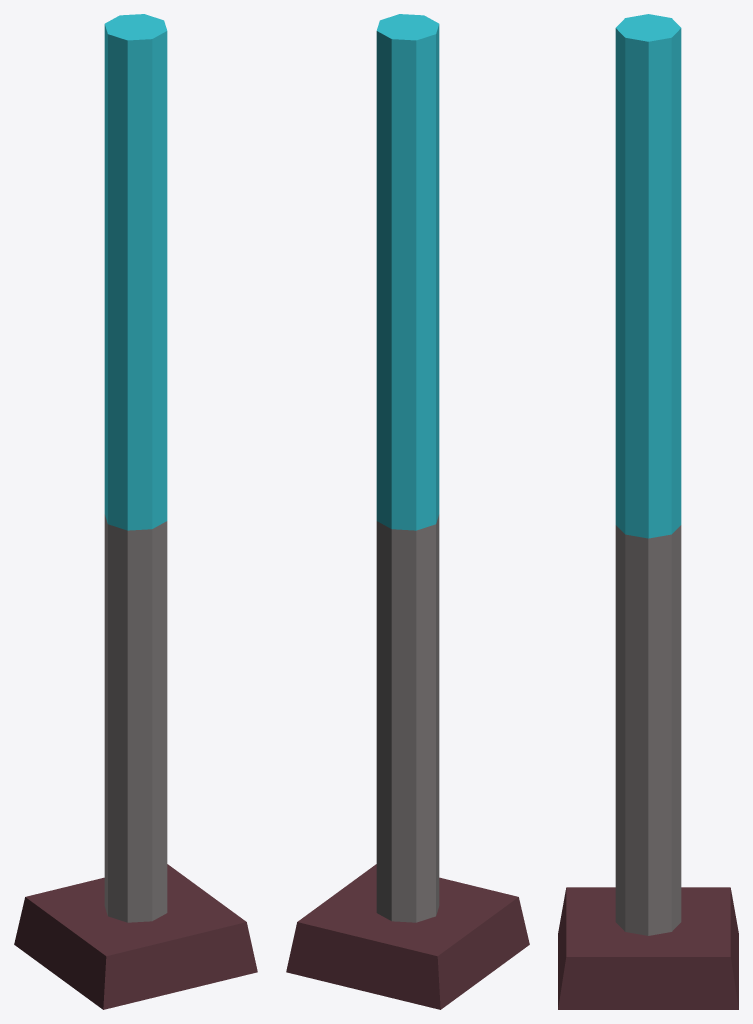
The model's file is scifi-scifi-lamp-small.glb.
3 renders of one model, left to right at view 1: azimuth 30°, elevation 25°; view 2: azimuth 150°, elevation 25°; view 3: azimuth 270°, elevation 25°, orthographic.
Visible parts, largest first — view 1: scifi-lamp-small; view 2: scifi-lamp-small; view 3: scifi-lamp-small.
Boxes of the visible parts, left/top/right/bottom form: scifi-lamp-small: left=14, top=14, right=257, bottom=1009; scifi-lamp-small: left=286, top=14, right=529, bottom=1009; scifi-lamp-small: left=558, top=14, right=738, bottom=1009.
Size of the model in its own units: 0.33 by 1.9 by 0.33.
